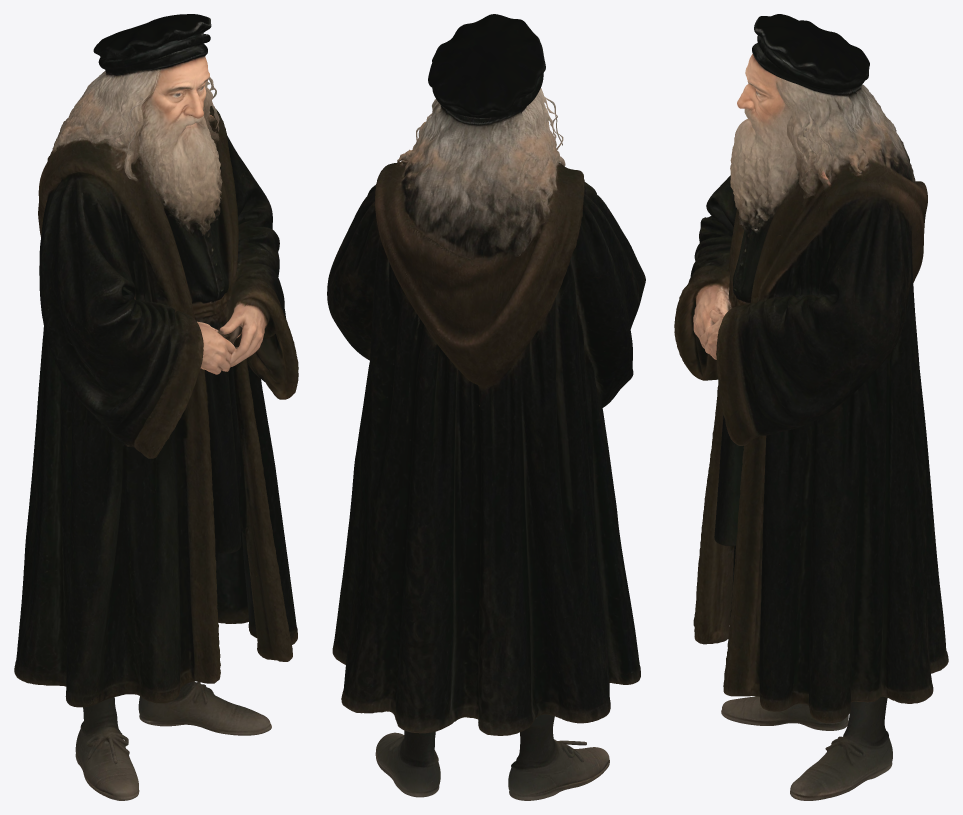
The model's file is davinci-standing-c.glb.
The picture shows the model from 3 angles, left to right: view 1: azimuth 30°, elevation 25°; view 2: azimuth 150°, elevation 25°; view 3: azimuth 270°, elevation 25°; orthographic projection.
Visible parts, largest first — view 1: mesh_node; view 2: mesh_node; view 3: mesh_node.
Boxes of the visible parts, x1,y1,x2,y2 form: mesh_node: (14,14,298,800); mesh_node: (327,14,645,800); mesh_node: (674,14,948,800).
Size of the model in its own units: 0.7296 by 1.9 by 0.6468.
1 material, 1 textured.
